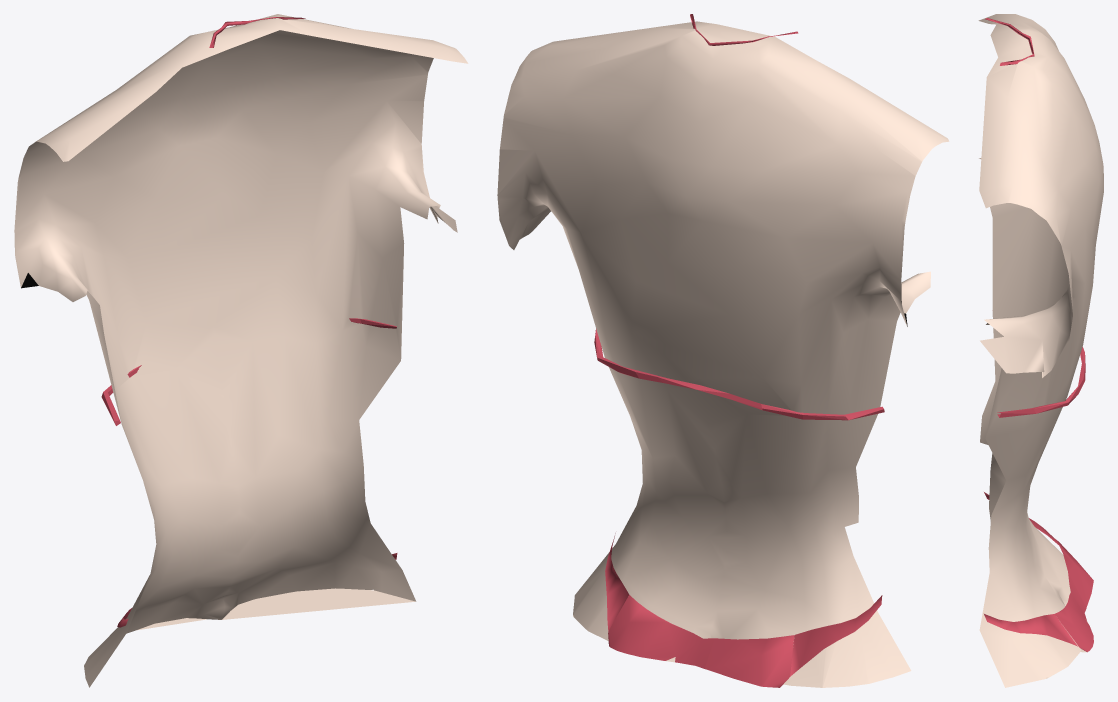
The picture shows the model from 3 angles, left to right: view 1: azimuth 30°, elevation 25°; view 2: azimuth 150°, elevation 25°; view 3: azimuth 270°, elevation 25°; orthographic projection. The views are drawn at different scales.
Visible parts, largest first — view 1: Cube.001; view 2: Cube.001; view 3: Cube.001.
Part boxes in pixels (x1=…): Cube.001: x1=14, y1=14, x2=468, y2=687; Cube.001: x1=497, y1=14, x2=949, y2=687; Cube.001: x1=978, y1=14, x2=1103, y2=687.
Size of the model in its own units: 803 by 1158 by 231.
